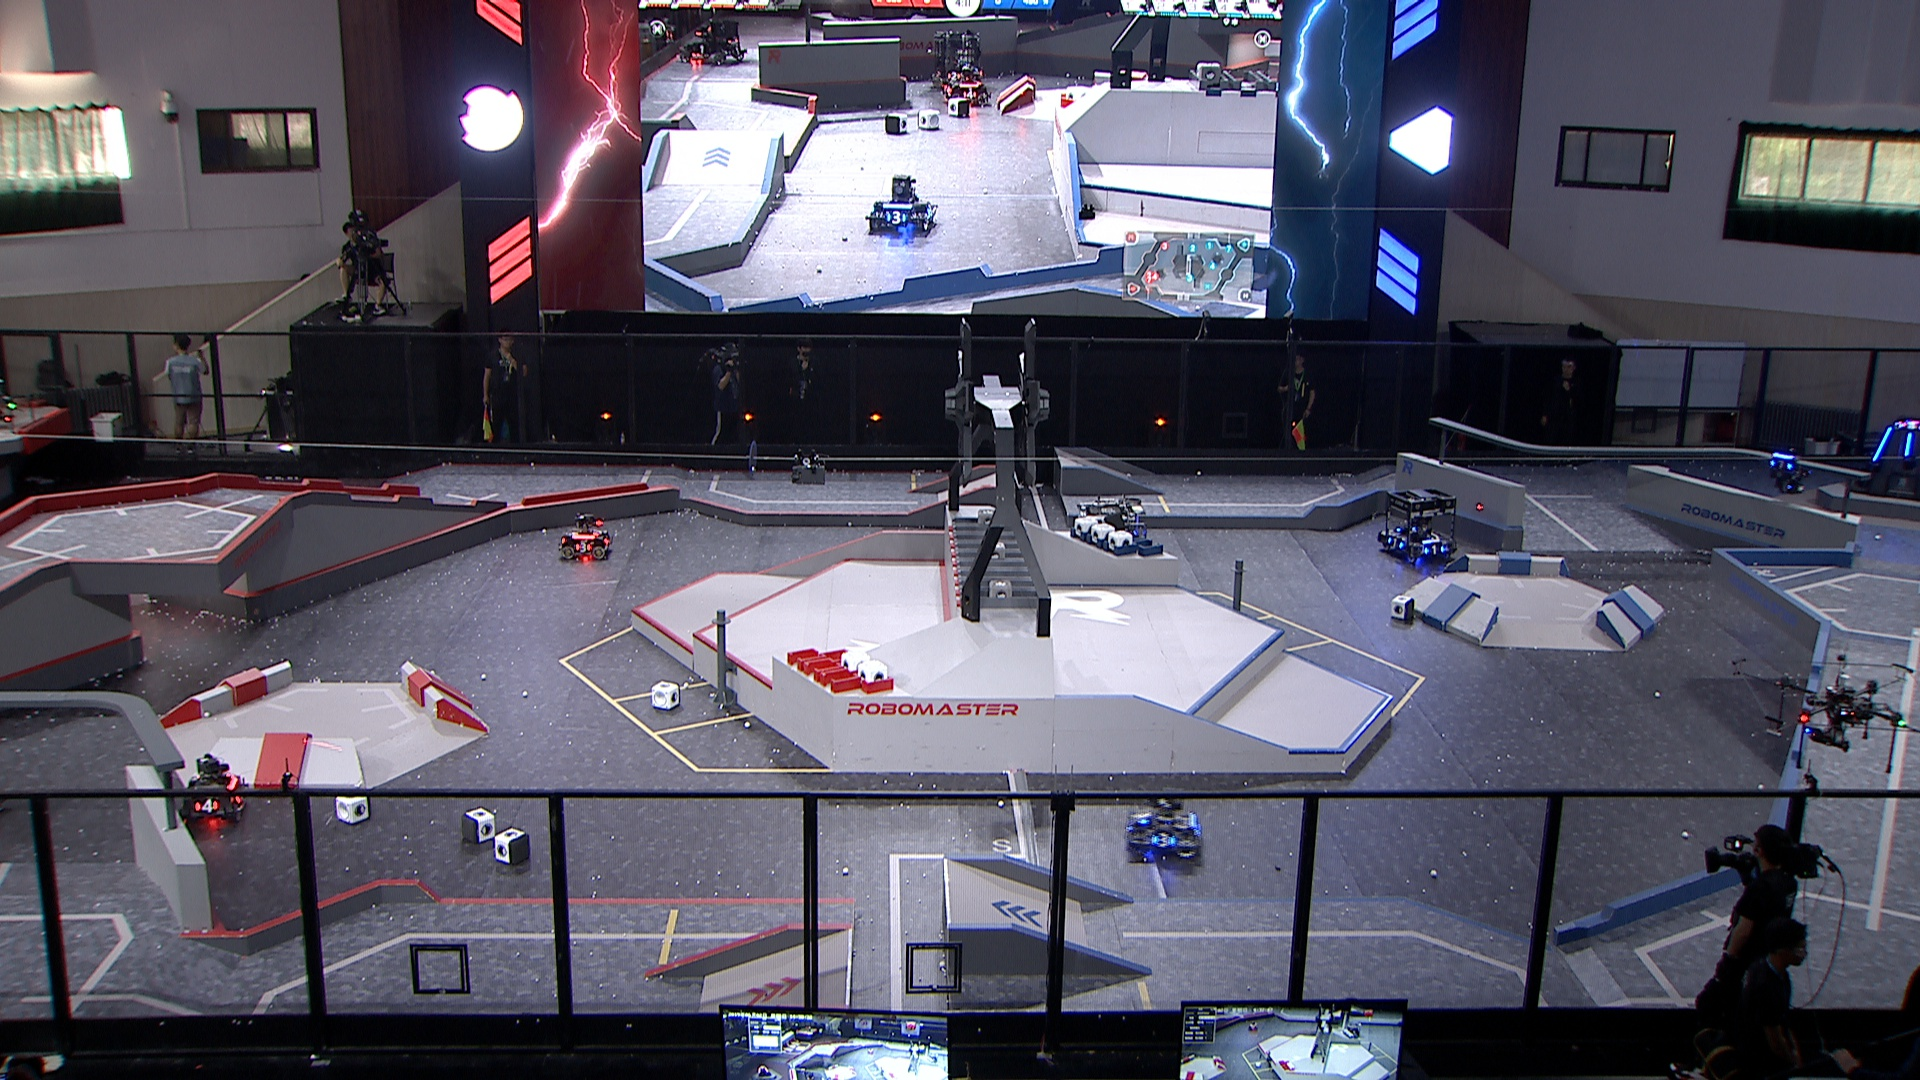armor: (1873, 427, 1898, 463), (1149, 829, 1179, 851), (193, 796, 222, 815), (1902, 431, 1916, 460), (1768, 458, 1797, 472), (1387, 535, 1406, 553), (1423, 543, 1447, 556), (575, 541, 593, 555), (1134, 812, 1153, 827)
base: (1851, 418, 1920, 502)
car: (1072, 498, 1153, 588), (1375, 485, 1460, 566), (1126, 794, 1205, 864), (175, 756, 252, 827), (560, 513, 615, 562)
ignore: (862, 175, 939, 237), (676, 15, 746, 69), (927, 29, 982, 83), (940, 65, 992, 105), (1898, 418, 1920, 433)
watcher: (1766, 451, 1813, 495)
